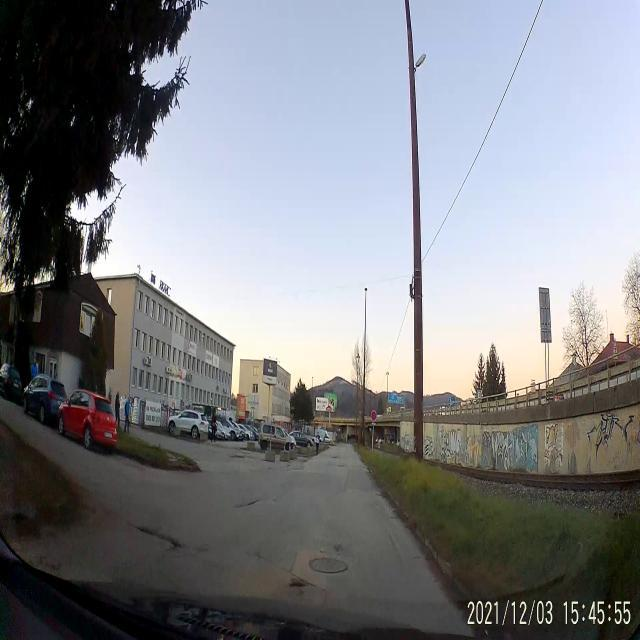Manhole: (308, 552, 349, 577)
Pothole: (138, 524, 180, 550), (233, 500, 259, 512)
